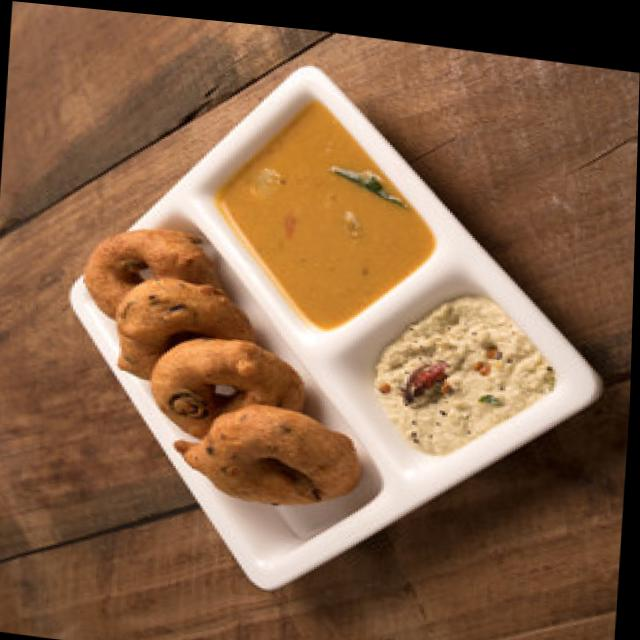SAMBAR: (223, 108, 429, 324)
VADA: (83, 225, 360, 504)
WHITE CHUTNEY: (372, 294, 552, 450)
